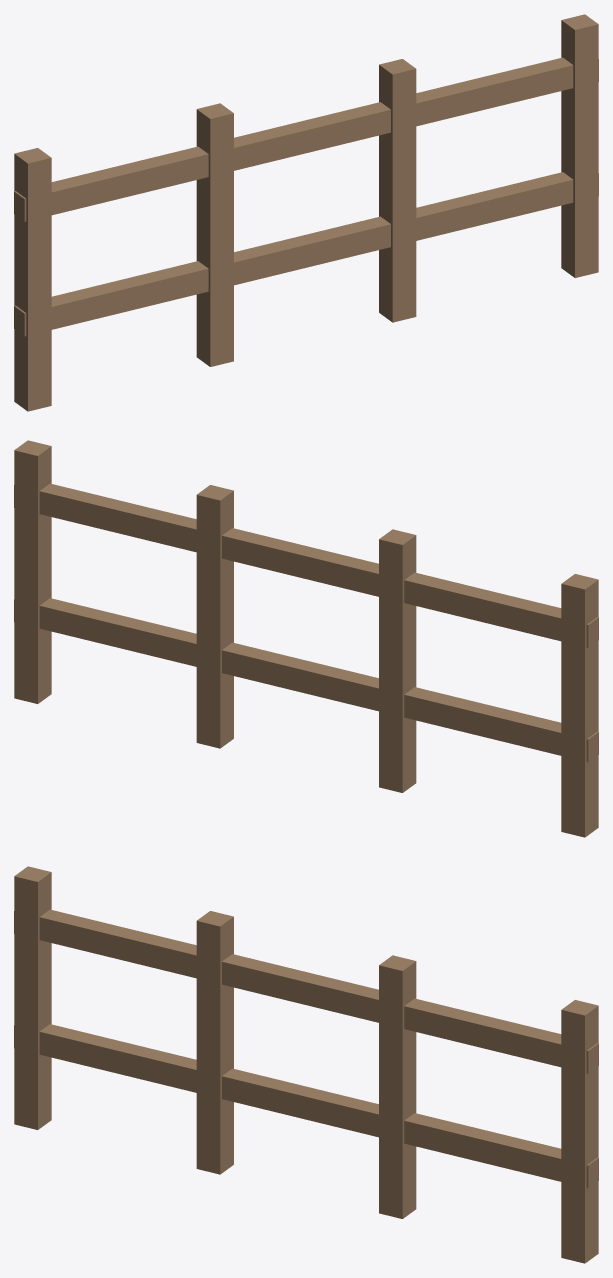
The model's file is fence_wood.glb.
3 views of the same model, one above another, from view 1: azimuth 30°, elevation 25°; view 2: azimuth 150°, elevation 25°; view 3: azimuth 330°, elevation 25° (orthographic).
Parts seen in each view (by area): view 1: part_4, part_5, part_0, part_2, part_3, part_1; view 2: part_4, part_5, part_0, part_2, part_3, part_1; view 3: part_4, part_5, part_3, part_1, part_0, part_2.
Part boxes in pixels (box(x1,y1,x2,y2)): part_4: box(14, 172, 598, 336); part_5: box(14, 57, 598, 221); part_0: box(14, 148, 51, 411); part_2: box(379, 59, 416, 322); part_3: box(561, 14, 598, 277); part_1: box(196, 103, 233, 366); part_4: box(14, 598, 598, 762); part_5: box(14, 483, 598, 647); part_0: box(561, 574, 598, 837); part_2: box(196, 485, 233, 748); part_3: box(14, 440, 51, 703); part_1: box(379, 529, 416, 792); part_4: box(14, 1024, 598, 1188); part_5: box(14, 909, 598, 1073); part_3: box(561, 1000, 598, 1263); part_1: box(196, 911, 233, 1174); part_0: box(14, 866, 51, 1129); part_2: box(379, 955, 416, 1218).
Bounding box in the file's own units: 3.15 × 1.3 × 0.13.
